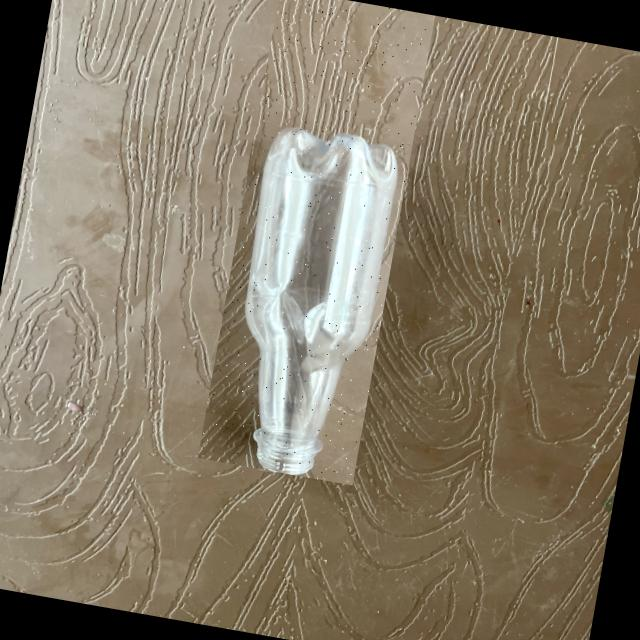PET_ClearBottle: (197, 0, 434, 485)
